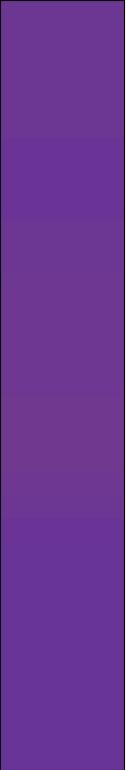safe: (6, 9, 119, 766)
